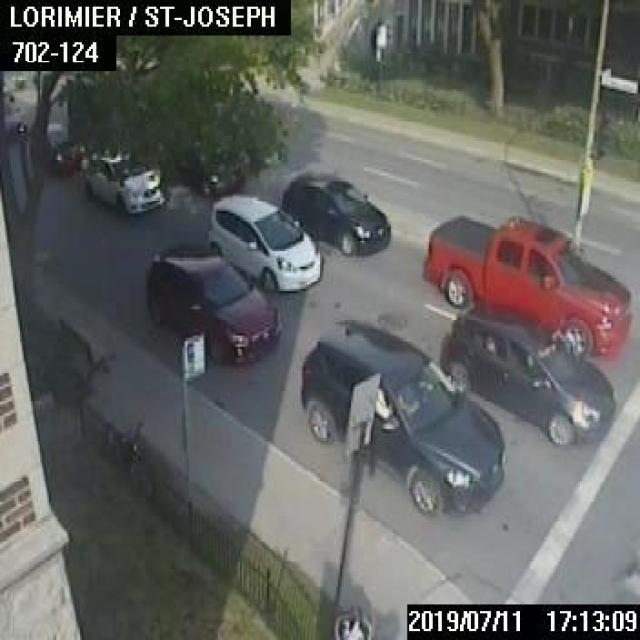vehicle: (299, 319, 505, 512), (421, 213, 630, 361), (440, 305, 614, 445), (145, 244, 279, 369), (210, 194, 319, 292), (280, 170, 388, 252), (78, 154, 164, 213), (30, 120, 79, 171)
